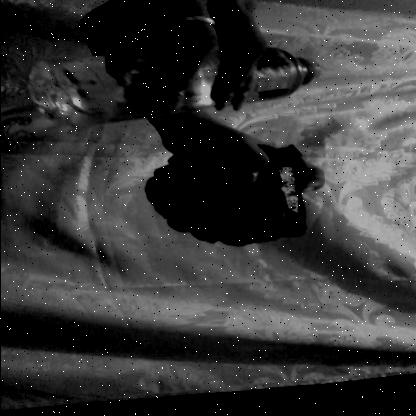Plastic Bottle: (11, 31, 356, 147)
